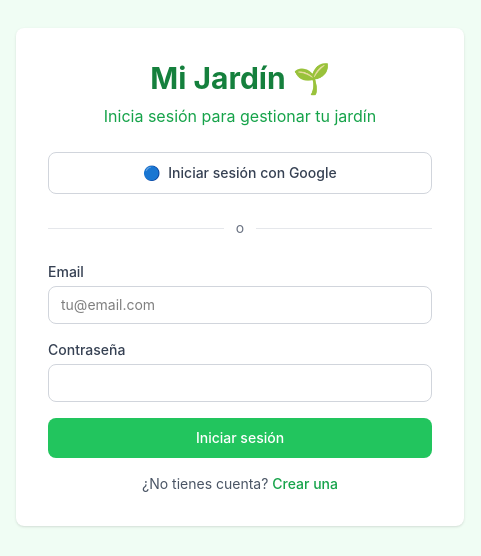
Login › shows validation error for empty password
The image size is (481, 556).
Type "test@example.com" into the field labelled "Email" at coordinates (240, 305), box [48,286,432,324]
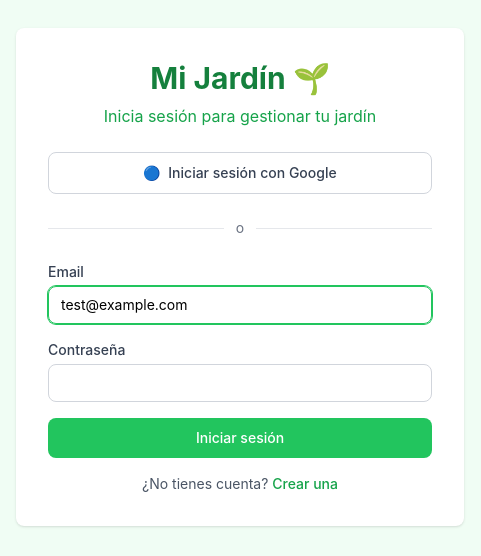
Click the button "Iniciar sesión" at coordinates (240, 438), box [48,418,432,458]
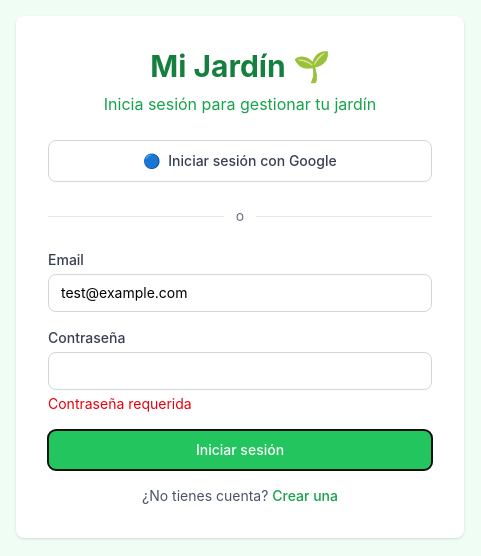
Expected: the text "Contraseña requerida" is shown, [48,395,192,412]
